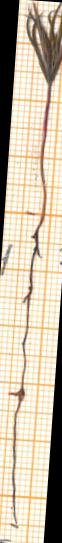flower: (17, 0, 62, 83)
root: (5, 214, 47, 530)
stem: (32, 83, 60, 215)
